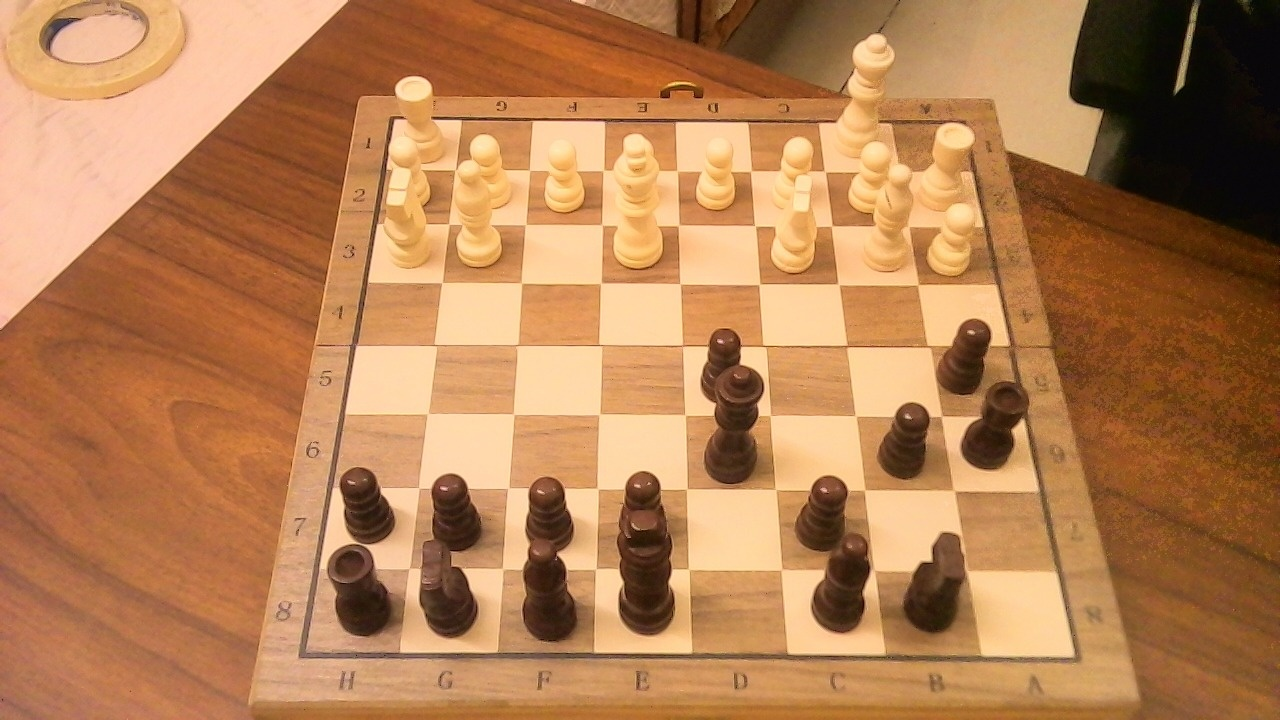B: (856, 154, 923, 277), (449, 148, 514, 271)
K: (606, 123, 675, 274)
N: (763, 163, 830, 278), (374, 159, 437, 274)
P: (840, 135, 911, 218), (459, 126, 518, 213), (923, 193, 983, 278), (764, 128, 822, 215), (535, 129, 591, 217), (688, 128, 744, 215), (383, 128, 436, 211)
Q: (830, 21, 901, 164)
R: (917, 111, 983, 217), (390, 67, 450, 167)
b: (803, 520, 886, 638), (511, 540, 592, 646)
k: (610, 520, 680, 640)
n: (411, 527, 488, 642), (901, 552, 978, 635)
p: (421, 462, 494, 551), (873, 389, 942, 482), (937, 306, 1001, 398), (693, 320, 754, 405), (335, 468, 395, 545), (522, 477, 576, 550), (618, 470, 668, 545), (803, 475, 853, 550)
q: (694, 351, 776, 487)
r: (954, 367, 1040, 474), (322, 533, 401, 637)
